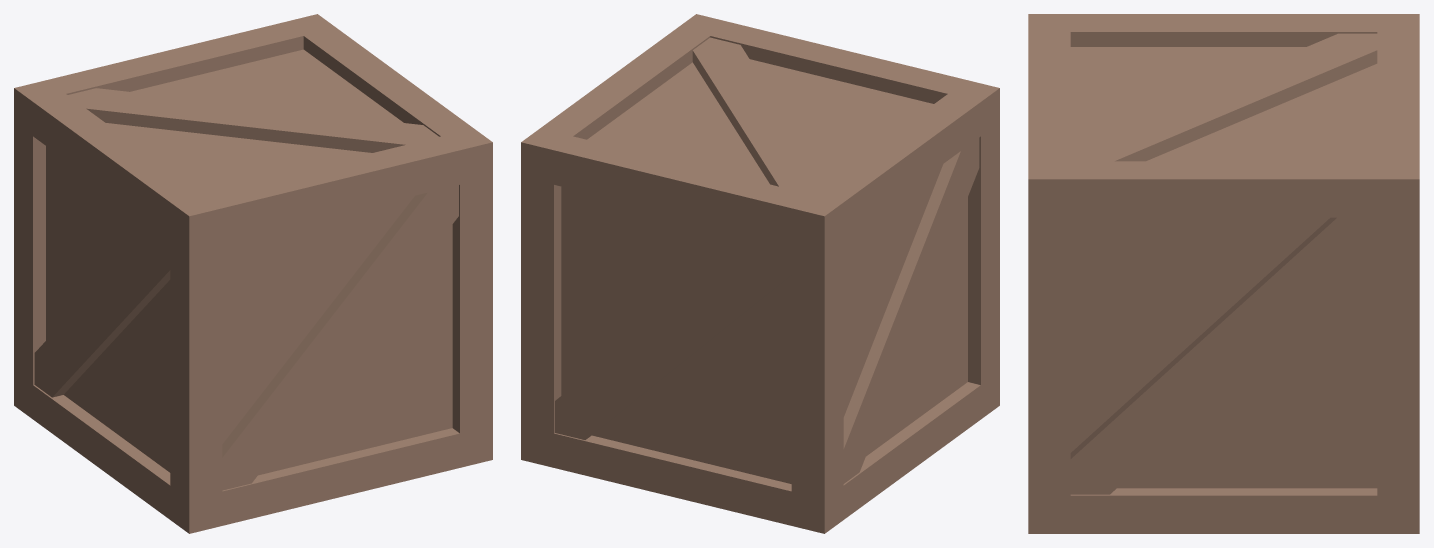
The model's file is crate1.fbx.
3 views of the same model, side by side, from view 1: azimuth 30°, elevation 25°; view 2: azimuth 150°, elevation 25°; view 3: azimuth 270°, elevation 25° (orthographic). The views are drawn at different scales.
Visible parts, largest first — view 1: Cube; view 2: Cube; view 3: Cube.
Boxes of the visible parts, x1,y1,x2,y2 form: Cube: (14, 14, 492, 533); Cube: (521, 14, 999, 533); Cube: (1028, 14, 1419, 533).
Size of the model in its own units: 100 by 100 by 100.
